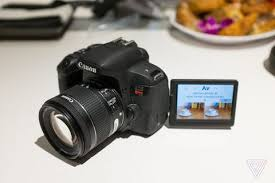camera: (40, 38, 168, 162)
